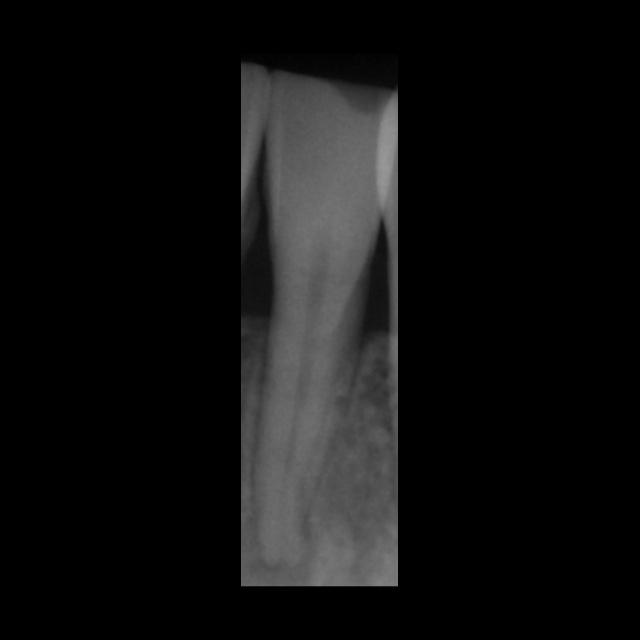tooth: (253, 61, 396, 568)
